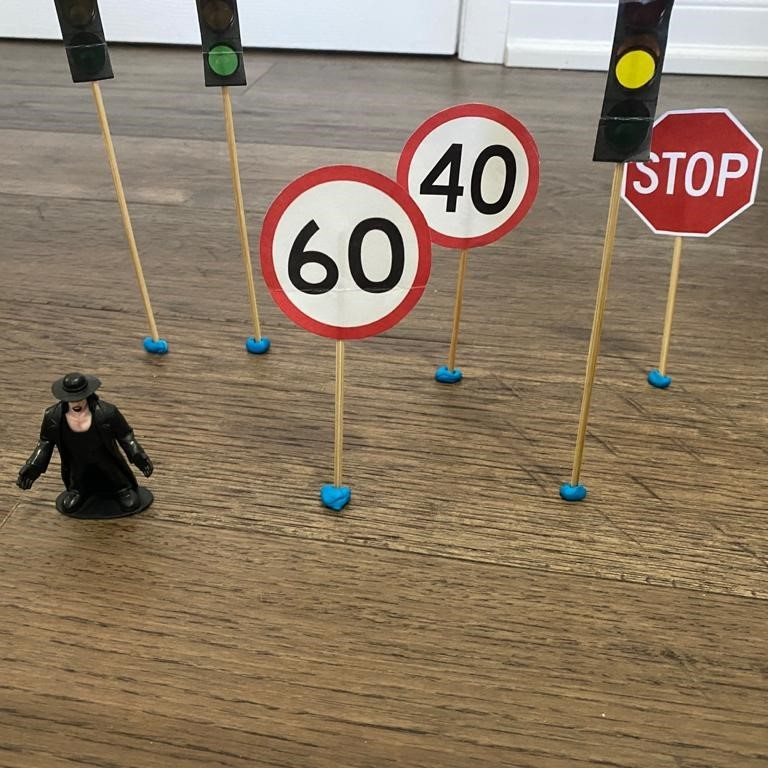Person: (12, 370, 159, 524)
Speed Limit 40: (398, 100, 540, 251)
Speed Limit 60: (259, 161, 432, 346)
